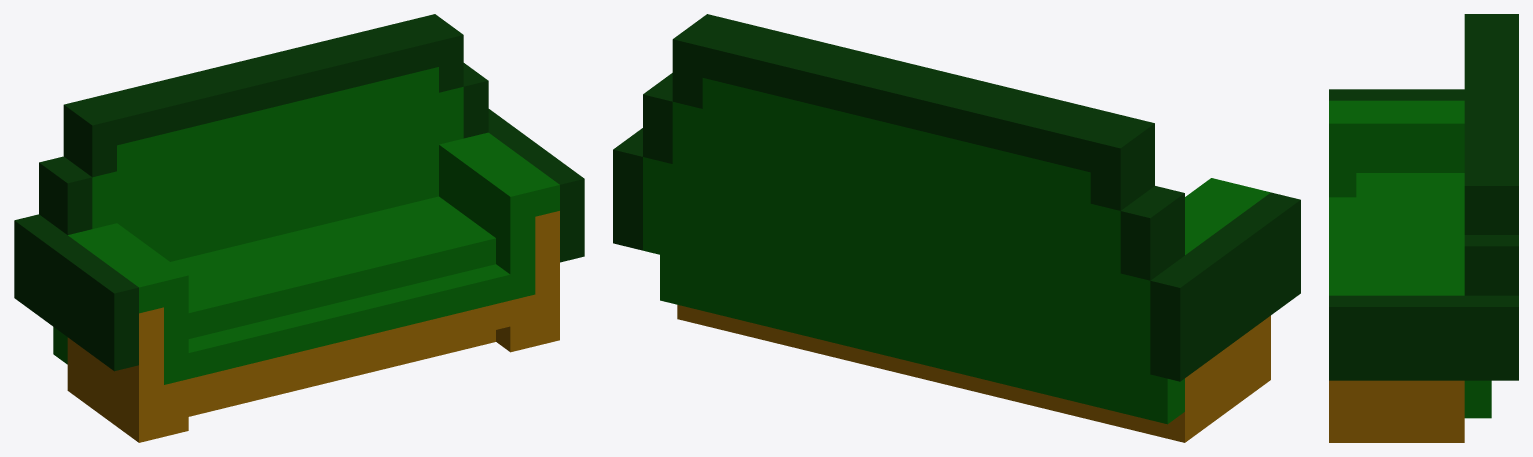
The model's file is Bank furnitures-0.obj.
3 renders of one model, left to right at view 1: azimuth 30°, elevation 25°; view 2: azimuth 150°, elevation 25°; view 3: azimuth 270°, elevation 25°, orthographic. The views are drawn at different scales.
Parts seen in each view (by area): view 1: Bank furnitures-0; view 2: Bank furnitures-0; view 3: Bank furnitures-0.
Part boxes in pixels (left/top/right/bottom): Bank furnitures-0: left=14, top=14, right=584, bottom=442; Bank furnitures-0: left=613, top=14, right=1300, bottom=442; Bank furnitures-0: left=1329, top=14, right=1518, bottom=442.
Bounding box in the file's own units: 19 × 10 × 7.
